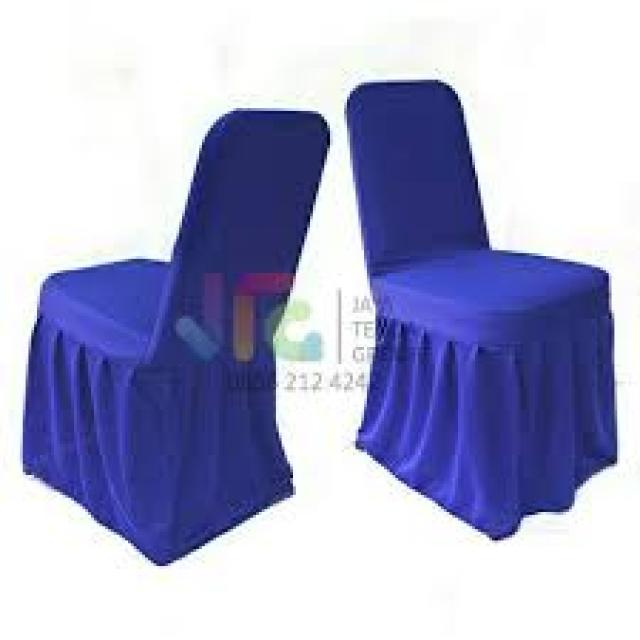chair: (27, 112, 330, 567), (350, 77, 611, 542)
